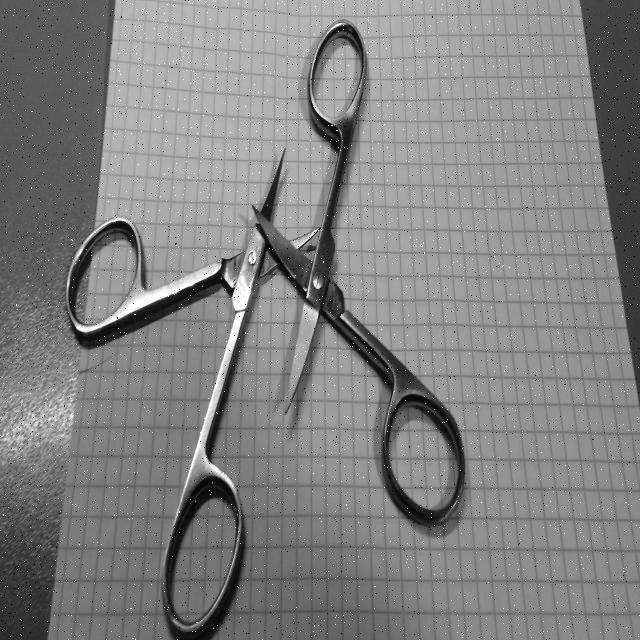scissors: (64, 143, 320, 640), (252, 19, 469, 532)
